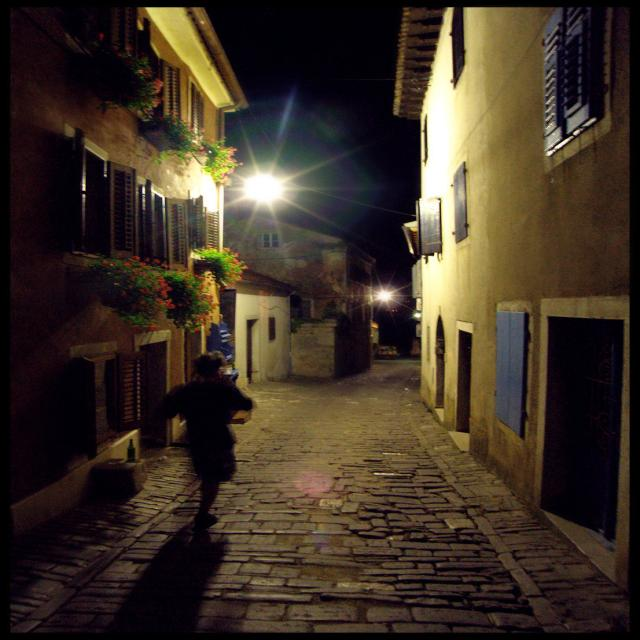People: (160, 342, 259, 511)
